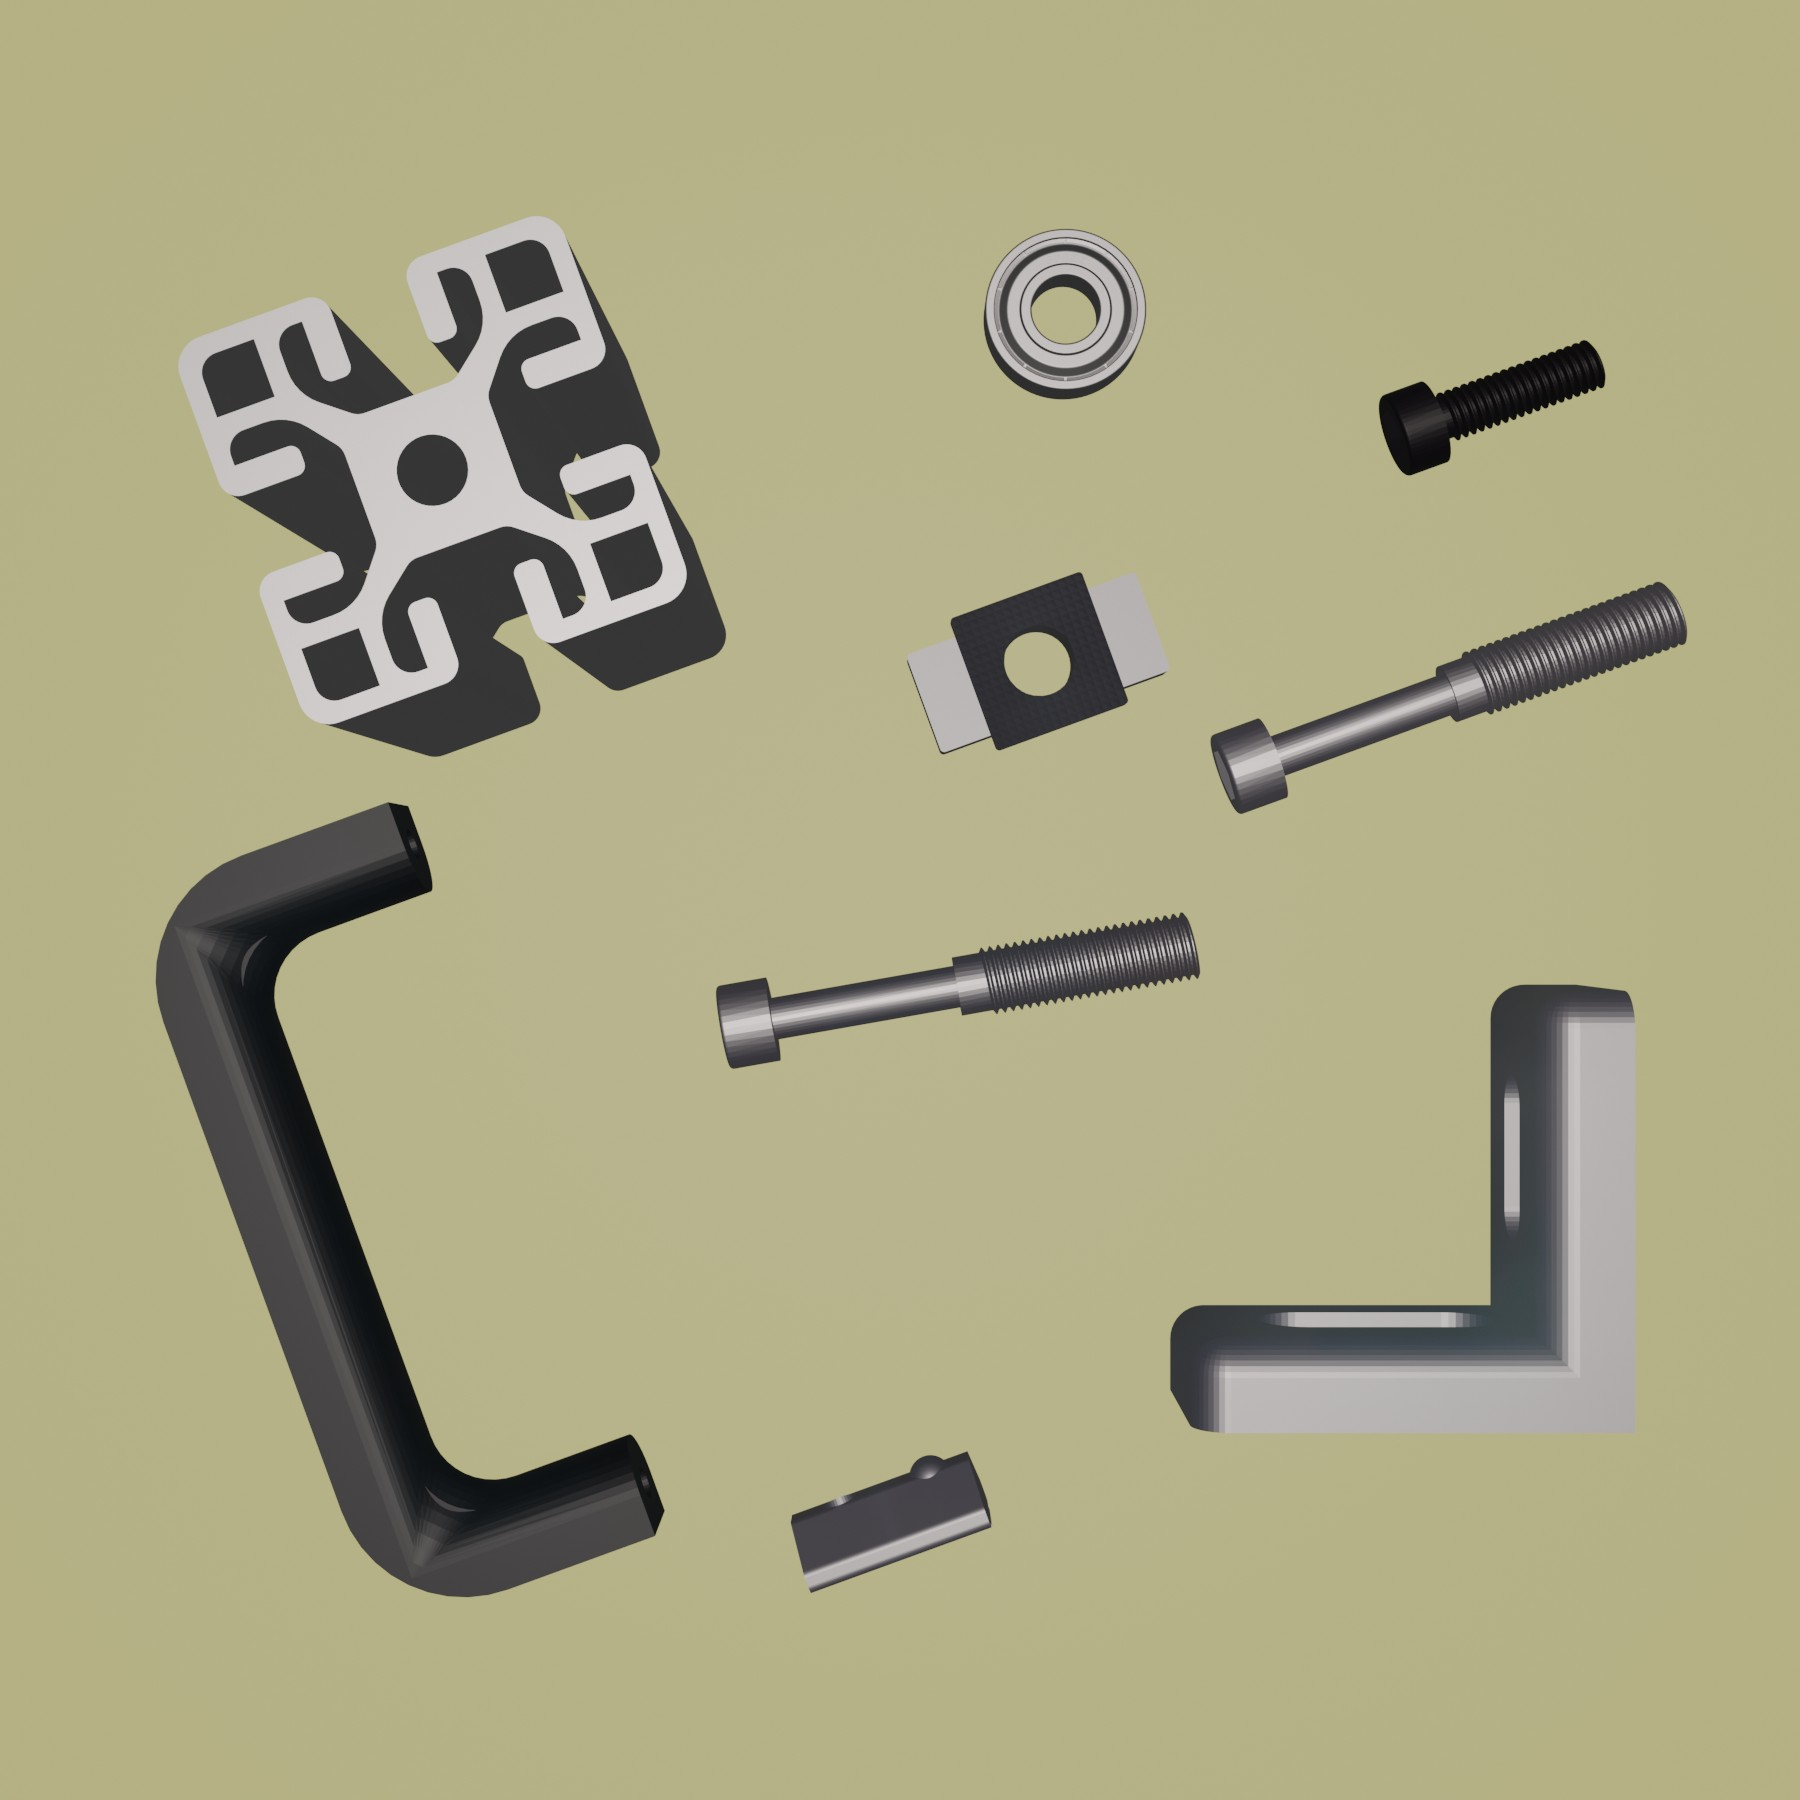Aluminium Extension: (175, 214, 729, 762)
Ball Bearing: (979, 226, 1151, 402)
Multiwinkel: (1167, 981, 1642, 1439)
Pull Handle: (152, 796, 666, 1599)
Shoulder Socket Head Cap Screw: (1208, 579, 1690, 819), (712, 912, 1203, 1073)
Socket Head Cap Screw: (1376, 335, 1609, 478)
T Nut Square: (902, 569, 1174, 762)
T Spring Nut: (790, 1449, 997, 1597)
